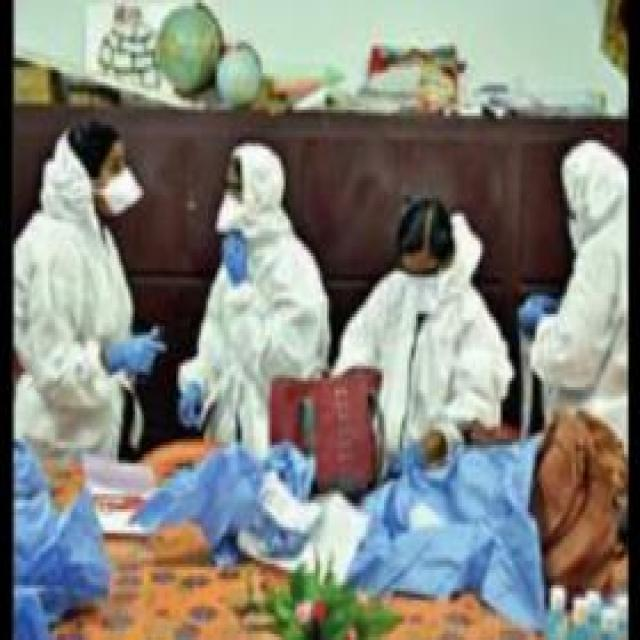Coverall: (176, 119, 354, 506), (0, 92, 151, 470), (340, 171, 519, 463), (525, 113, 640, 445)
Gloves: (94, 317, 171, 399), (160, 357, 229, 436)
Mask: (384, 256, 453, 299), (105, 165, 149, 232), (210, 174, 245, 241)
